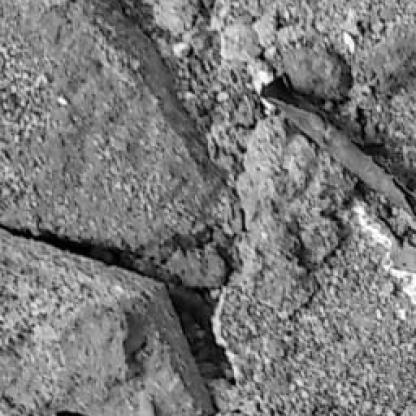cementitious_debris: (108, 4, 413, 195), (33, 207, 241, 386)
